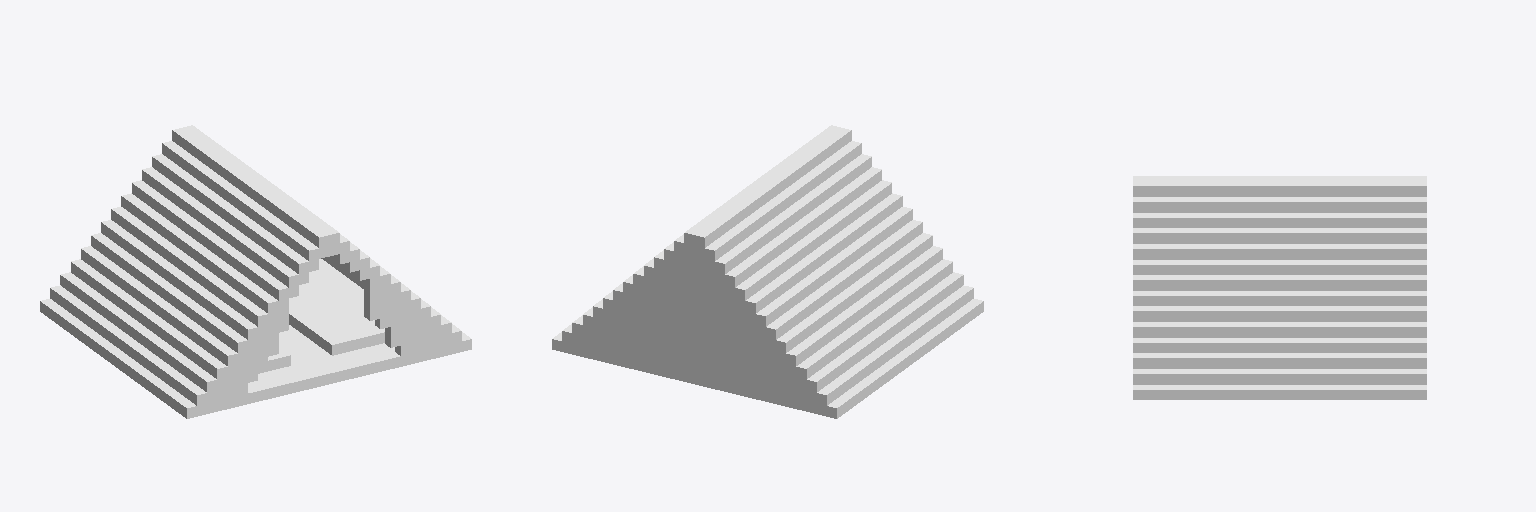
File: tent.obj
3 views of the same model, side by side, from view 1: azimuth 30°, elevation 25°; view 2: azimuth 150°, elevation 25°; view 3: azimuth 270°, elevation 25° (orthographic).
Parts seen in each view (by area): view 1: object 1; view 2: object 1; view 3: object 1.
Boxes of the visible parts, x1=… form: object 1: x1=40, y1=125, x2=471, y2=418; object 1: x1=552, y1=125, x2=983, y2=418; object 1: x1=1133, y1=176, x2=1426, y2=399.
Bounding box in the file's own units: 2.8 × 1.4 × 2.5.